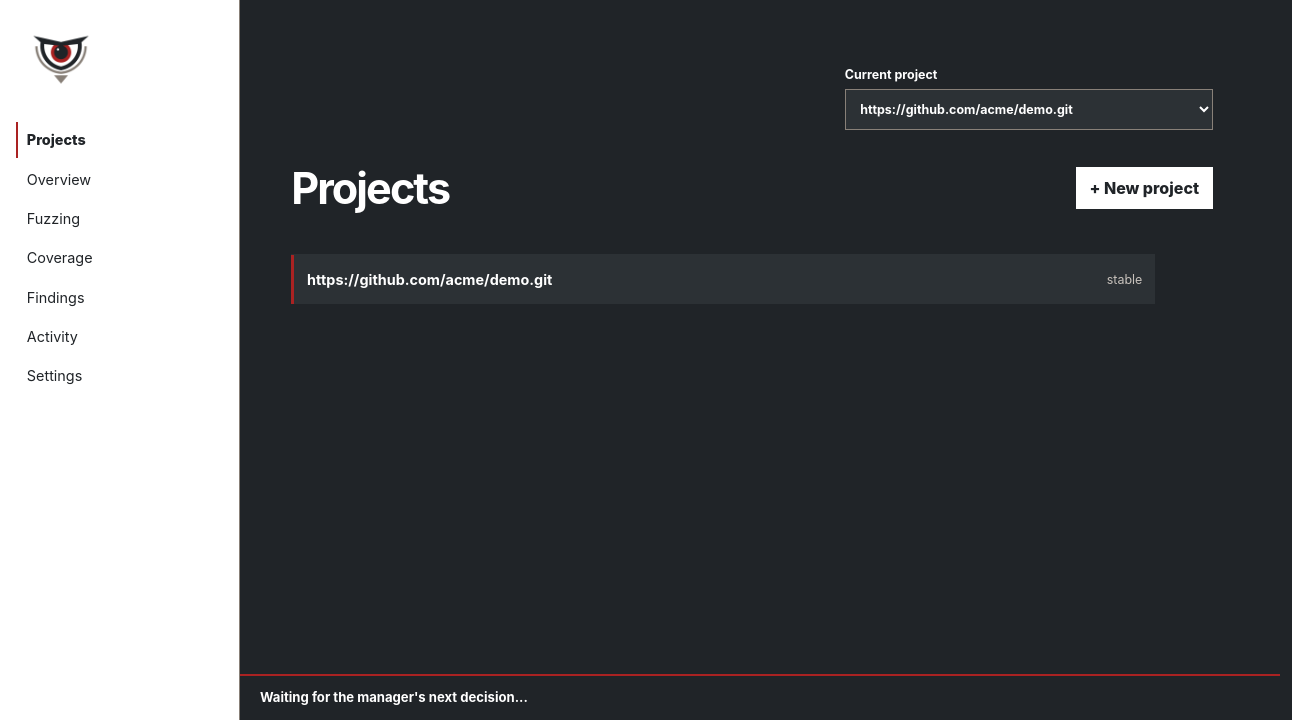
Test: App journey › uses a truthful empty state for replayed findings
Click the link "Findings". click: (56, 297)
box: [27,289,84,306]
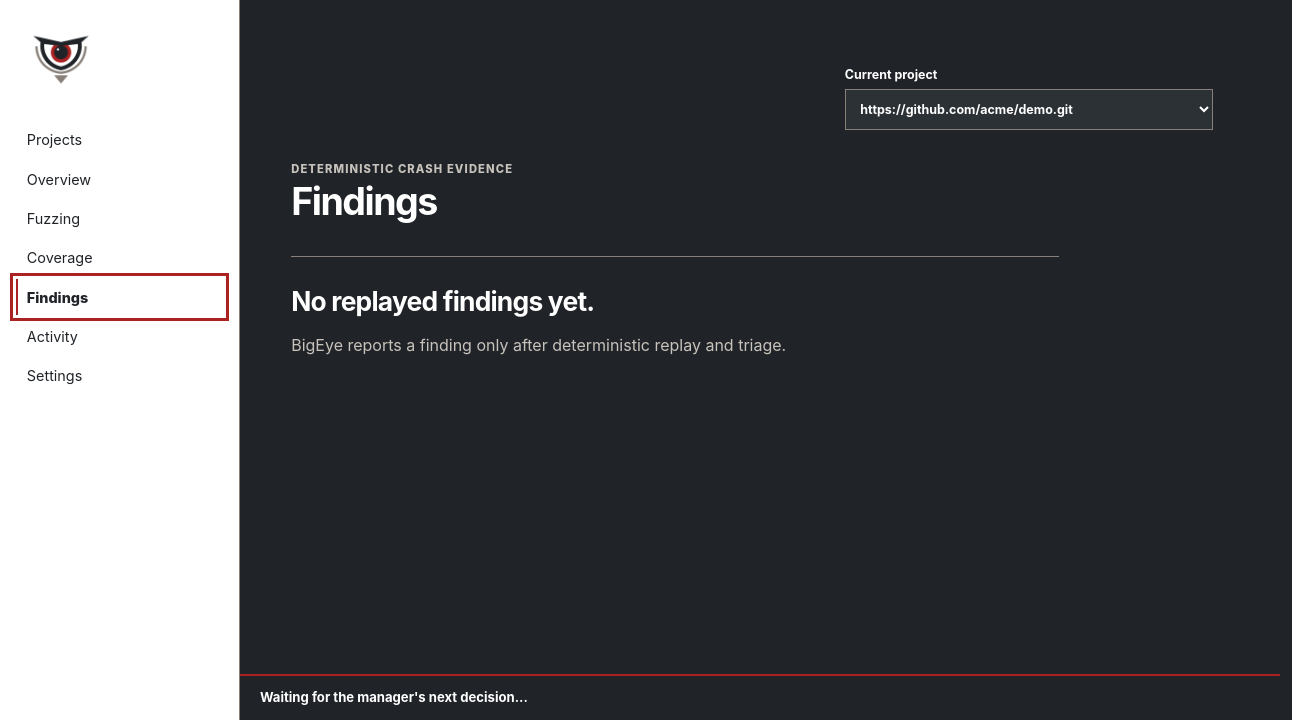
Now the heading "No replayed findings yet." is shown, box [291,285,594,317]
